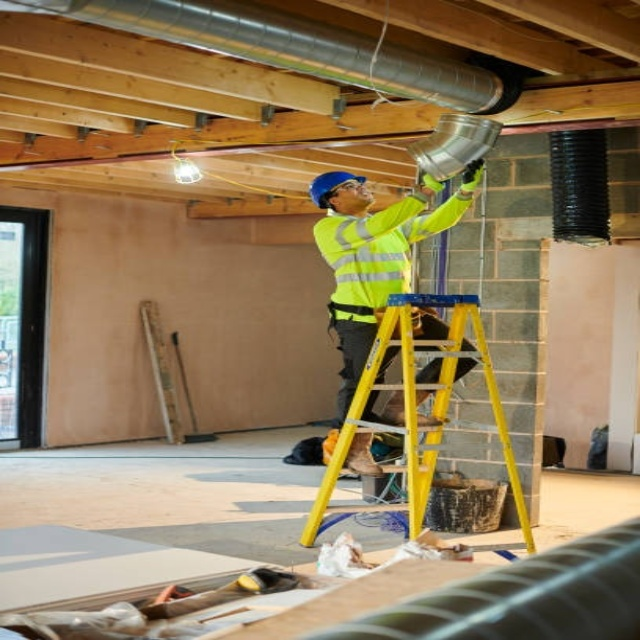Gafas: (331, 181, 366, 196)
Guantes: (461, 159, 485, 185), (419, 171, 445, 193)
Sin_mascara: (351, 185, 376, 202)
